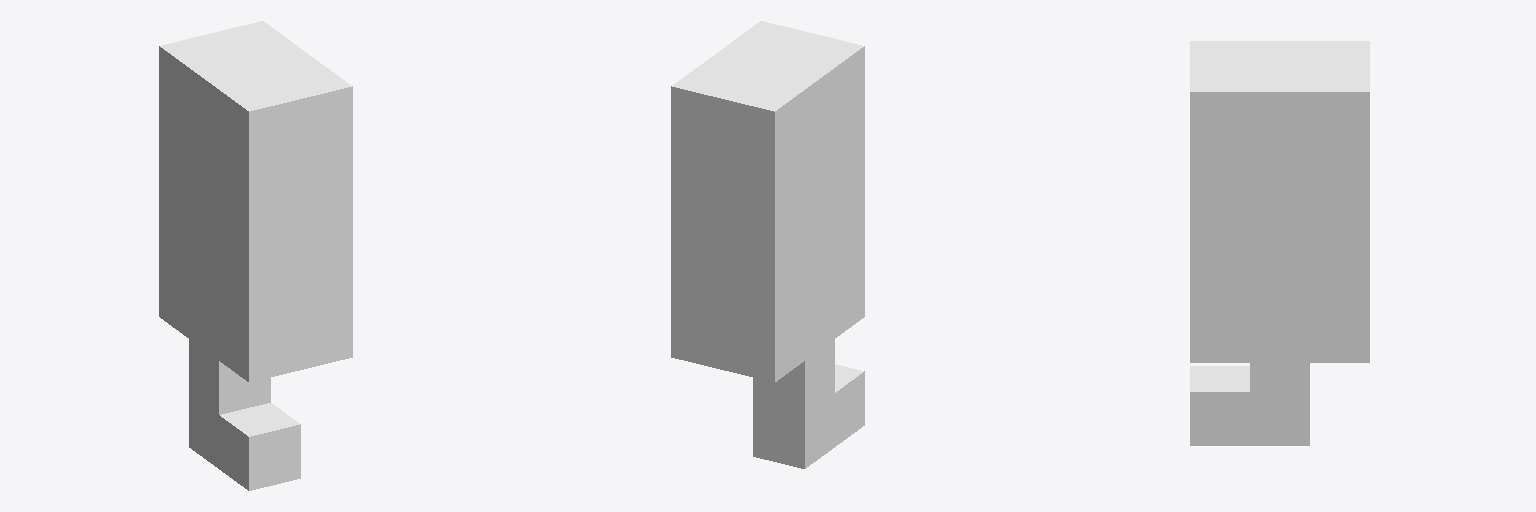
File: Man_F.obj
3 renders of one model, left to right at view 1: azimuth 30°, elevation 25°; view 2: azimuth 150°, elevation 25°; view 3: azimuth 270°, elevation 25°, orthographic.
Parts seen in each view (by area): view 1: object 1; view 2: object 1; view 3: object 1.
Part boxes in pixels (x1,y1,x2,y2): object 1: (159, 21, 352, 490); object 1: (671, 21, 864, 468); object 1: (1190, 41, 1369, 445).
Size of the model in its own units: 0.2 by 0.7 by 0.3.